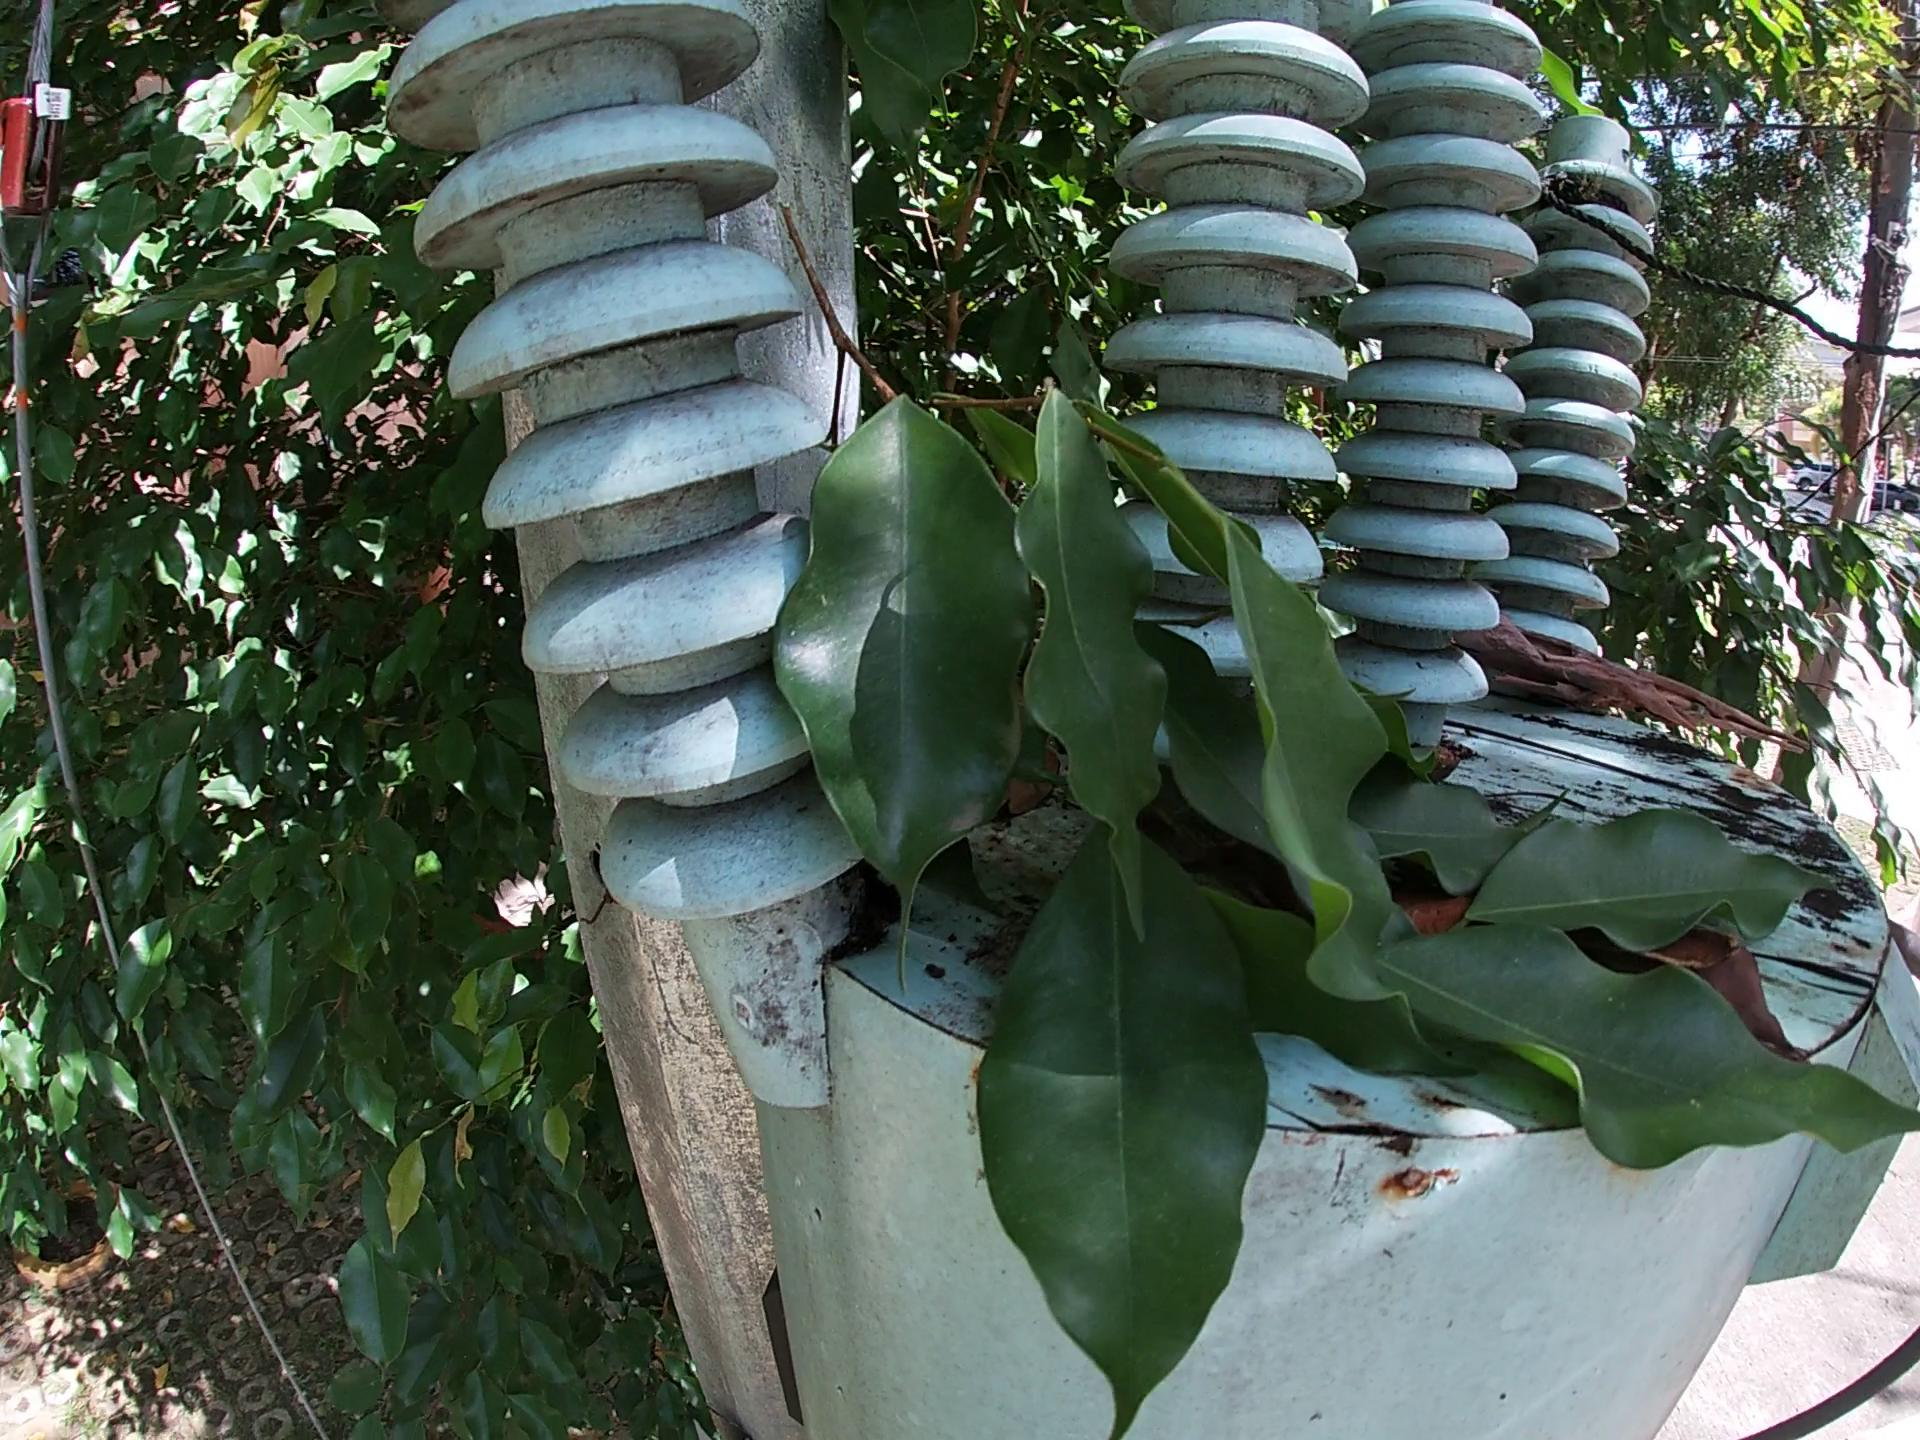branch with leaves: (730, 178, 1905, 1434)
mahogany fruit: (1663, 936, 1816, 1051), (1349, 856, 1463, 926)
tree branch: (1463, 616, 1838, 759), (1435, 715, 1758, 818)
